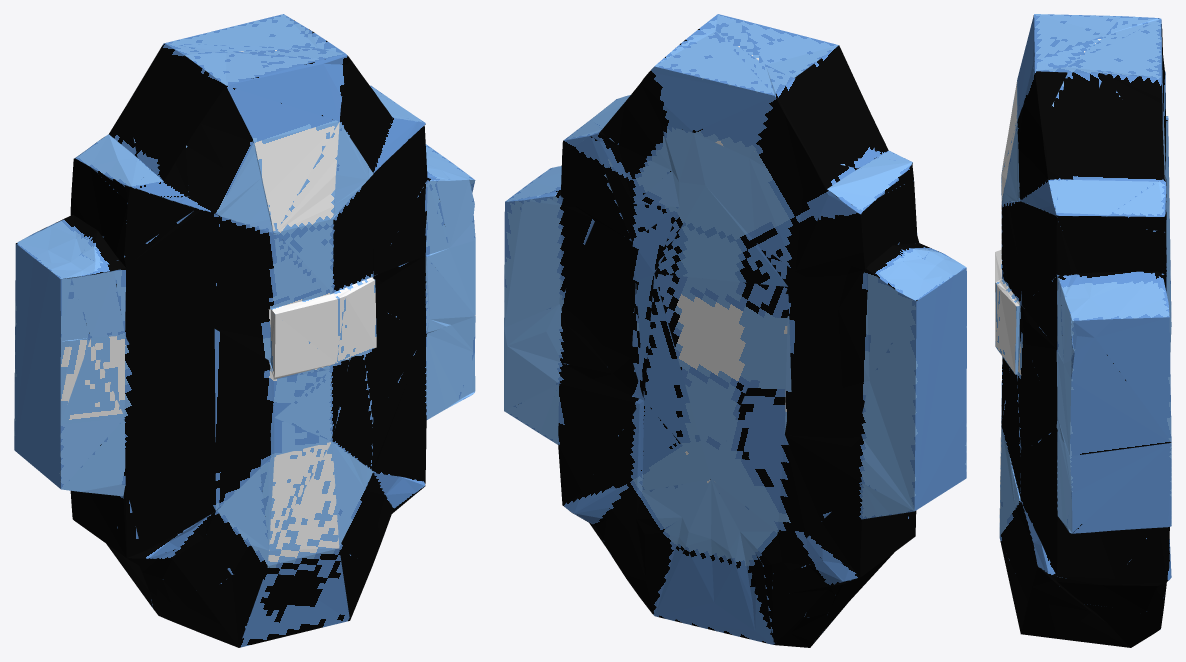
3 views of the same model, side by side, from view 1: azimuth 30°, elevation 25°; view 2: azimuth 150°, elevation 25°; view 3: azimuth 270°, elevation 25° (orthographic).
Visible parts, largest first — view 1: OBJ0a5; view 2: OBJ0a5; view 3: OBJ0a5.
Boxes of the visible parts, bbox=[...] form: OBJ0a5: bbox=[14, 14, 475, 647]; OBJ0a5: bbox=[504, 14, 966, 647]; OBJ0a5: bbox=[995, 14, 1171, 647].
Bounding box in the file's own units: 0.1054 × 0.1367 × 0.0387.
Materials: 1 (1 with a texture image).
